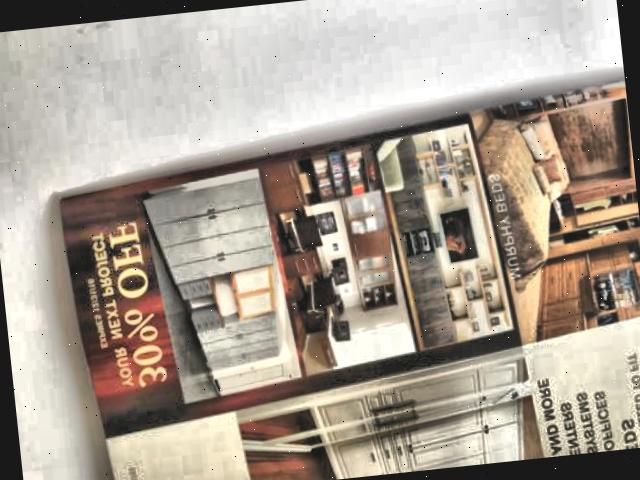Paper: (46, 75, 640, 480)
